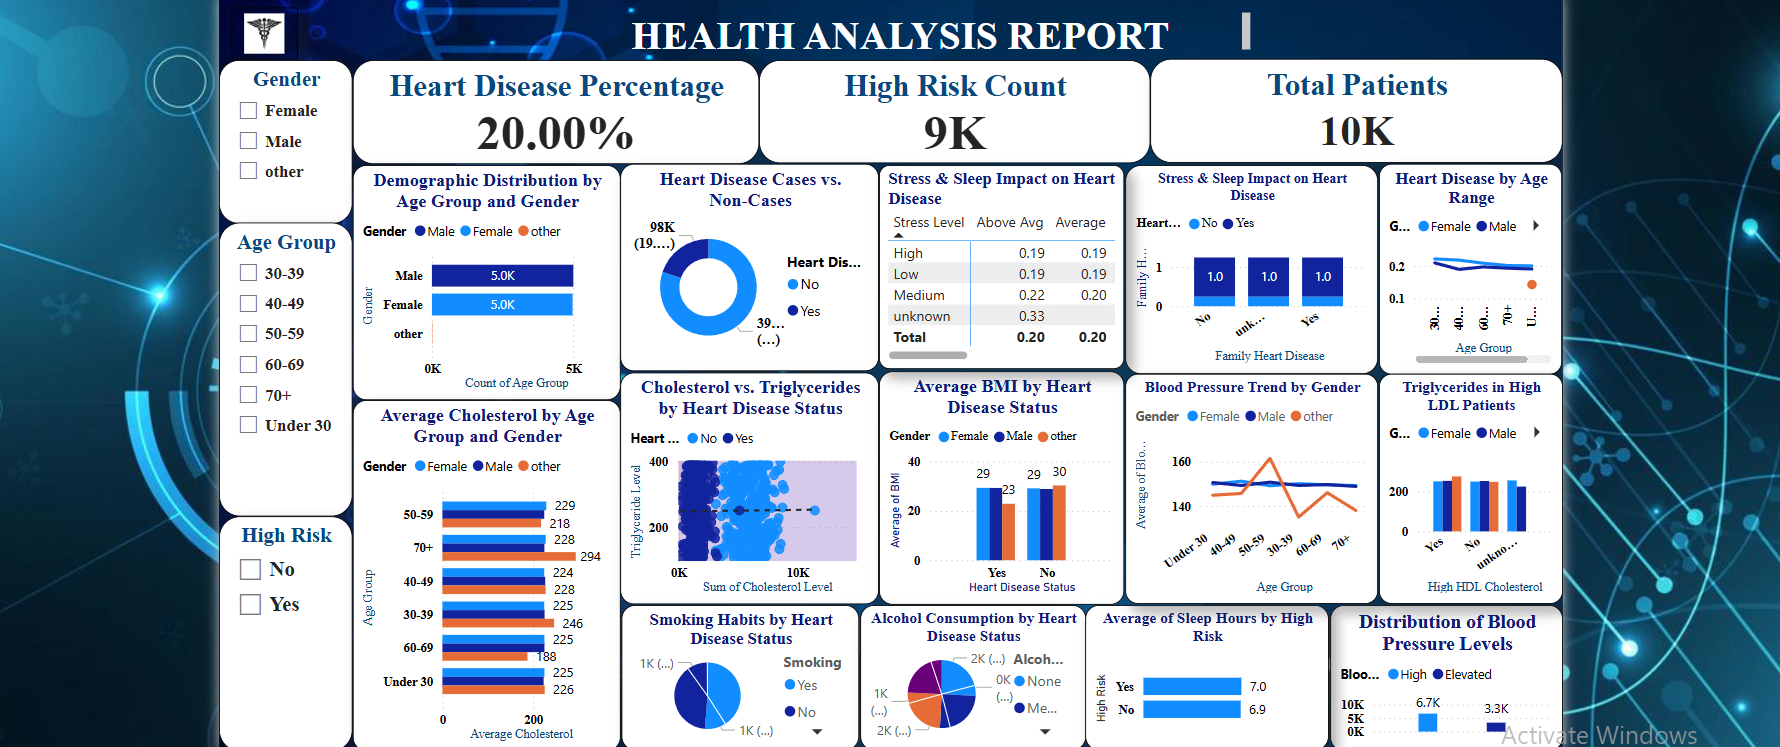

Layout of this report page (visuals, bound fields, positions):
{"tool":"powerbi","page":{"name":"Page 1","canvas":[1280,720],"ordinal":0},"visuals":[{"type":"textbox","box":[319,11.9,667.9,48.8],"z":0},{"type":"image","box":[11.5,11.5,63.5,50.5],"z":1000},{"type":"slicer","title":"Gender","fields":{"Values":["health health.Gender"]},"box":[0,62,127,155.8],"z":2000},{"type":"card","title":"Heart Disease Percentage","fields":{"Values":["health health.Heart Disease Percentage"]},"box":[127.4,61.9,386.9,98.8],"z":3000},{"type":"slicer","title":"Age Group","fields":{"Values":["health health.Age Group"]},"box":[0,216.4,127,279.9],"z":4000},{"type":"slicer","title":"High Risk","fields":{"Values":["health health.High Risk Flag"]},"box":[0,496.3,127,223.6],"z":5000},{"type":"card","title":"High Risk Count","fields":{"Values":["health health.High Risk Count"]},"box":[514.2,62.3,372.7,98.3],"z":6000},{"type":"card","title":"Healthy Metrics Compliance","fields":{"Values":["health health.Healthy Metric Compliance"]},"box":[886.9,61.1,393.1,99.5],"z":7000},{"type":"barChart","title":"Demographic Distribution by Age Group and Gender","fields":{"Y":["CountNonNull(health health.Age Group)"],"Category":["health health.Gender"],"Series":["health health.Gender"]},"box":[127,161.8,255.3,224.1],"z":8000},{"type":"donutChart","title":"Heart Disease Cases vs. Non-Cases","fields":{"Category":["health health.Heart Disease Status"],"Y":["Sum(health health.Age)"]},"box":[382.3,160.1,246.7,197.7],"z":9000},{"type":"clusteredBarChart","fields":{"Series":["health health.Gender"],"Category":["health health.Age Group"],"Y":["health health.Average Cholesterol"]},"box":[127,385.2,255.4,334.7],"z":10000},{"type":"clusteredColumnChart","title":"Distribution of Blood Pressure Levels","fields":{"Category":["health health.Blood Pressure Category"],"Y":["CountNonNull(health health.Blood Pressure)"],"Series":["health health.Blood Pressure Category"]},"box":[1058.3,581.3,221.7,139],"z":11000},{"type":"scatterChart","title":" Cholesterol vs. Triglycerides by Heart Disease Status","fields":{"X":["Sum(health health.Cholesterol Level)"],"Series":["health health.Heart Disease Status"],"Y":["health health.Triglyceride Level"]},"box":[382.3,359.2,246.7,220.7],"z":12000},{"type":"clusteredColumnChart","title":"Average BMI by Heart Disease Status","fields":{"Category":["health health.Heart Disease Status"],"Y":["Avg(health health.BMI)"],"Series":["health health.Gender"]},"box":[629,357.8,233.7,222.2],"z":13000},{"type":"columnChart","title":"Stress & Sleep Impact on Heart Disease","fields":{"Y":["health health.Family History Contribution"],"Category":["health health.Family Heart Disease"],"Series":["health health.Heart Disease Status"]},"box":[862.8,161.6,240.9,199.1],"z":14000},{"type":"pieChart","title":"Smoking Habits by Heart Disease Status","fields":{"Y":["health health.Patient Count"],"Category":["health health.Smoking"],"Series":["health health.Heart Disease Status"]},"box":[383.8,581.4,226.5,138.5],"z":15000},{"type":"pieChart","title":"Alcohol Consumption by Heart Disease Status","fields":{"Y":["health health.Patient Count"],"Category":["health health.Alcohol Consumption"],"Series":["health health.Heart Disease Status"]},"box":[610.3,581.4,215,138.5],"z":16000},{"type":"clusteredBarChart","fields":{"Category":["health health.High Risk"],"Y":["Avg(health health.Sleep Hours)"]},"box":[825.3,581.4,232.3,138.5],"z":17000},{"type":"lineChart","title":"Heart Disease by Age Range","fields":{"Category":["health health.Age Group"],"Y":["health health.Heart Disease Percentage"],"Series":["health health.Gender"]},"box":[1105.2,160.1,174.6,200.5],"z":18000},{"type":"lineChart","title":"Blood Pressure Trend by Gender","fields":{"Y":["Avg(health health.Blood Pressure)"],"Series":["health health.Gender"],"Category":["health health.Age Group"]},"box":[862.8,360.7,240.9,219.3],"z":19000},{"type":"clusteredColumnChart","title":"Triglycerides in High LDL Patients","fields":{"Category":["health health.High HDL Cholesterol"],"Y":["Avg(health health.Triglyceride Level)"],"Series":["health health.Gender"]},"box":[1105,360.7,175,219.3],"z":20000},{"type":"pivotTable","title":"Stress & Sleep Impact on Heart Disease","fields":{"Rows":["health health.Stress Level"],"Columns":["health health.Sleep Group"],"Values":["health health.Stress-Sleep Interaction"]},"box":[629,161.6,233.7,194.8],"z":21000}]}

Visuals, with their boxes in screenshot pixels (x1, y1, x2, y2):
textbox: detection(547, 3, 1254, 55)
image: detection(221, 3, 288, 56)
"Gender" slicer: detection(209, 56, 343, 222)
"Heart Disease Percentage" card: detection(344, 56, 754, 161)
"Age Group" slicer: detection(209, 220, 343, 517)
"High Risk" slicer: detection(209, 517, 343, 746)
"High Risk Count" card: detection(754, 57, 1148, 161)
"Healthy Metrics Compliance" card: detection(1148, 55, 1565, 161)
"Demographic Distribution by Age Group and Gender" barChart: detection(343, 162, 614, 400)
"Heart Disease Cases vs. Non-Cases" donutChart: detection(614, 160, 875, 370)
clusteredBarChart - health health.Gender x health health.Age Group: detection(343, 399, 614, 746)
"Distribution of Blood Pressure Levels" clusteredColumnChart: detection(1330, 607, 1565, 746)
" Cholesterol vs. Triglycerides by Heart Disease Status" scatterChart: detection(614, 371, 875, 605)
"Average BMI by Heart Disease Status" clusteredColumnChart: detection(875, 370, 1123, 605)
"Stress & Sleep Impact on Heart Disease" columnChart: detection(1123, 162, 1378, 373)
"Smoking Habits by Heart Disease Status" pieChart: detection(615, 607, 855, 746)
"Alcohol Consumption by Heart Disease Status" pieChart: detection(855, 607, 1083, 746)
clusteredBarChart - health health.High Risk x Avg(health health.Sleep Hours): detection(1083, 607, 1329, 746)
"Heart Disease by Age Range" lineChart: detection(1380, 160, 1565, 373)
"Blood Pressure Trend by Gender" lineChart: detection(1123, 373, 1378, 605)
"Triglycerides in High LDL Patients" clusteredColumnChart: detection(1380, 373, 1565, 605)
"Stress & Sleep Impact on Heart Disease" pivotTable: detection(875, 162, 1123, 368)
